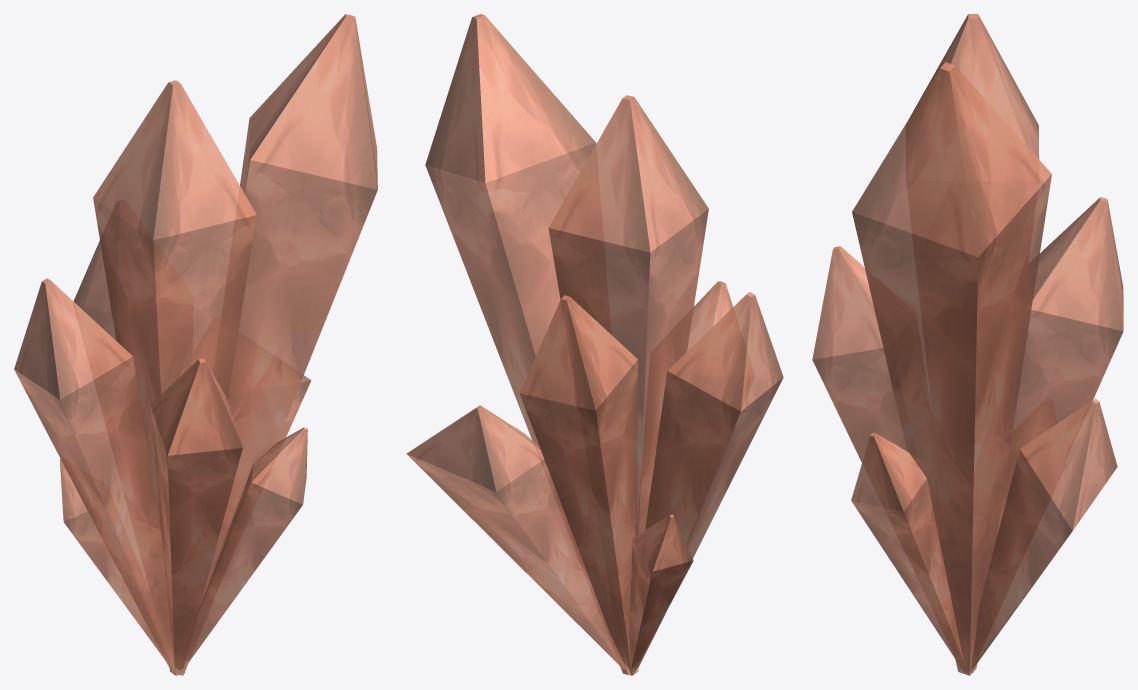
Rendered from salt-crystal-plant-1.glb.
3 renders of one model, left to right at view 1: azimuth 30°, elevation 25°; view 2: azimuth 150°, elevation 25°; view 3: azimuth 270°, elevation 25°, orthographic. The views are drawn at different scales.
Parts seen in each view (by area): view 1: tall-plant-2; view 2: tall-plant-2; view 3: tall-plant-2.
Boxes of the visible parts, box(x1,y1,x2,y2) form: tall-plant-2: box(14, 14, 377, 675); tall-plant-2: box(406, 14, 783, 675); tall-plant-2: box(812, 14, 1123, 675).
Size of what is drawn, in the model's own units: 2.39 by 4.17 by 1.69.
Materials: 1 (1 with a texture image).
